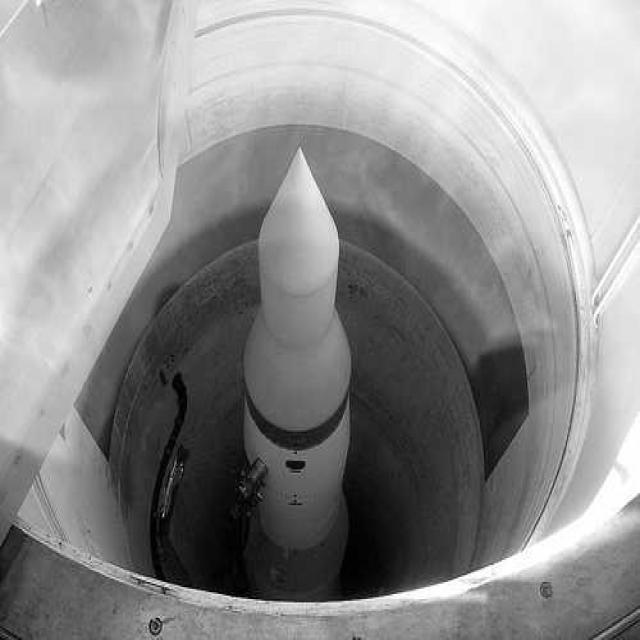missile: (252, 138, 358, 601)
